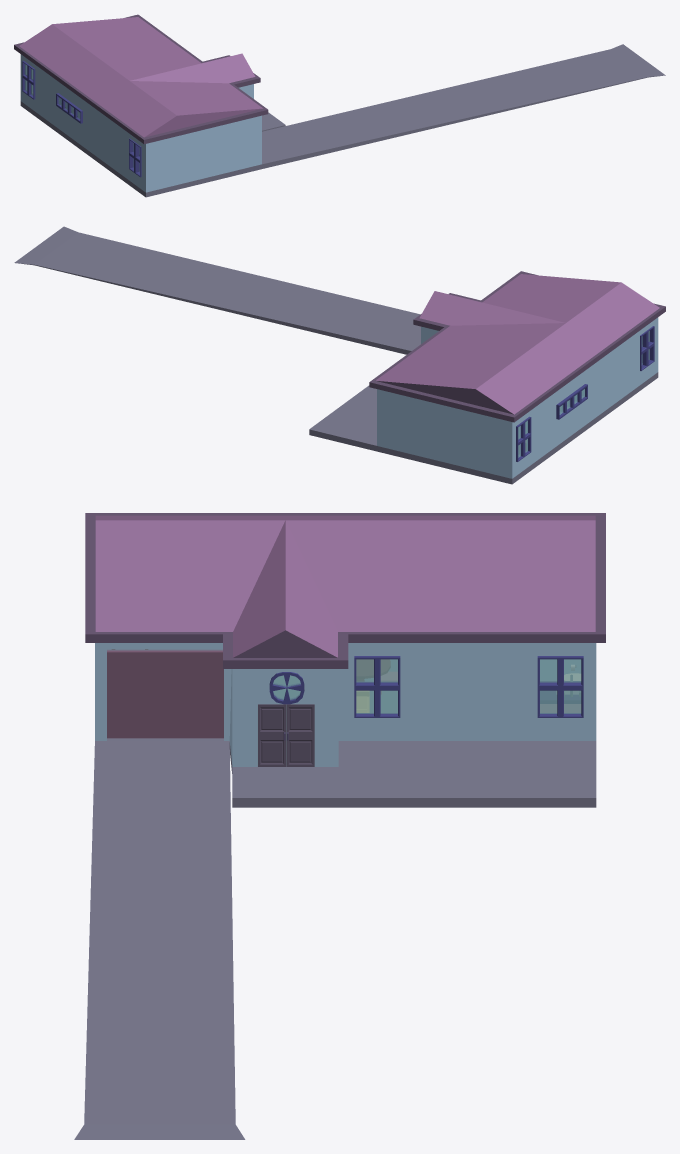
The model's file is NewGrannyHouse.fbx.
3 renders of one model, top to bottom at view 1: azimuth 30°, elevation 25°; view 2: azimuth 150°, elevation 25°; view 3: azimuth 270°, elevation 25°, orthographic. The views are drawn at different scales.
Visible parts, largest first — view 1: BaseHouse, Roof, WindowC, WindowD, WindowE; view 2: BaseHouse, Roof, WindowC, WindowD, WindowE; view 3: BaseHouse, Roof, GarageDoor, WindowA, WindowB, FrontDoorRight, FrontDoorRight.001, CircleWindow.
Boxes of the visible parts, x1,y1,x2,y2 form: BaseHouse: (20, 44, 665, 197); Roof: (14, 14, 268, 144); WindowC: (22, 60, 35, 99); WindowD: (129, 138, 141, 177); WindowE: (56, 93, 82, 123); BaseHouse: (14, 226, 658, 484); Roof: (369, 271, 665, 422); WindowC: (516, 416, 531, 461); WindowD: (640, 326, 654, 370); WindowE: (556, 384, 587, 419); BaseHouse: (74, 643, 596, 1139); Roof: (85, 513, 605, 668); GarageDoor: (107, 650, 223, 738); WindowA: (354, 656, 400, 717); WindowB: (537, 656, 583, 717); FrontDoorRight: (286, 704, 314, 766); FrontDoorRight.001: (258, 704, 285, 766); CircleWindow: (269, 672, 304, 704).
Bounding box in the file's own units: 25011 × 3409 × 11093.
